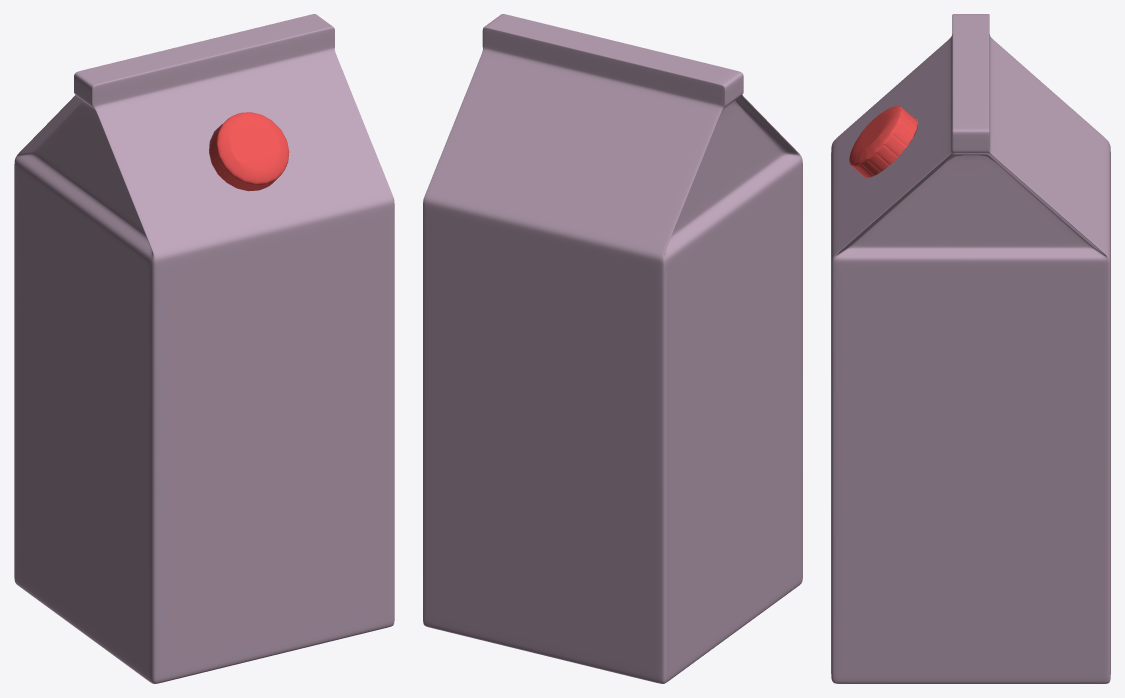
The model's file is MilkCarton.fbx.
3 views of the same model, side by side, from view 1: azimuth 30°, elevation 25°; view 2: azimuth 150°, elevation 25°; view 3: azimuth 270°, elevation 25° (orthographic).
Visible parts, largest first — view 1: Carton_L, Top; view 2: Carton_L; view 3: Carton_L, Top.
Part boxes in pixels (<box>): Carton_L: <box>14,14,394,683</box>; Top: <box>209,112,289,191</box>; Carton_L: <box>423,14,802,683</box>; Carton_L: <box>831,14,1110,683</box>; Top: <box>849,106,917,177</box>.
Bounding box in the file's own units: 80 × 175 × 80.
